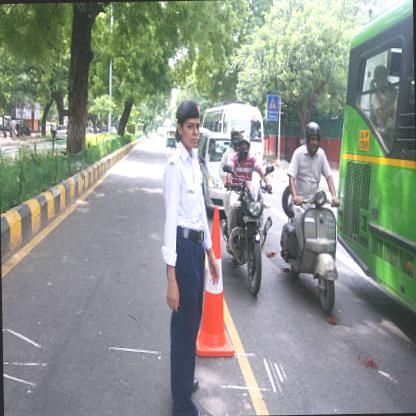bus: (333, 0, 415, 413), (202, 105, 264, 167)
motorcycle: (278, 122, 342, 315), (218, 124, 268, 298)
